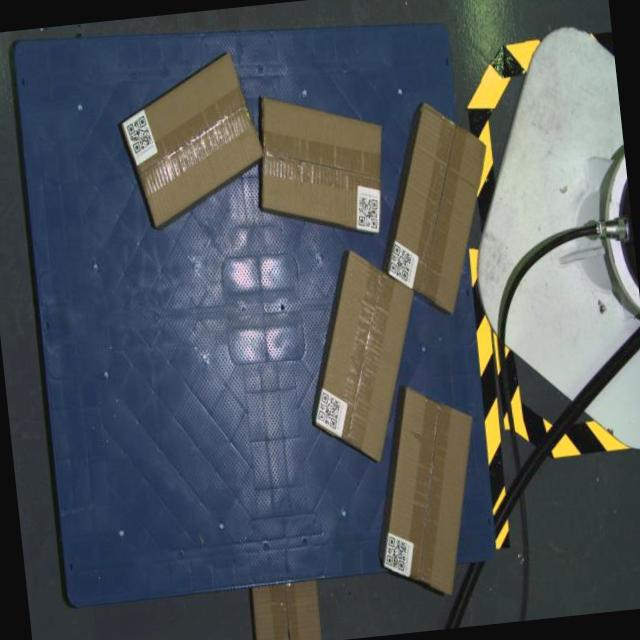box: (370, 94, 504, 320), (297, 244, 431, 468), (114, 48, 270, 230), (366, 380, 490, 602), (250, 86, 393, 244)
